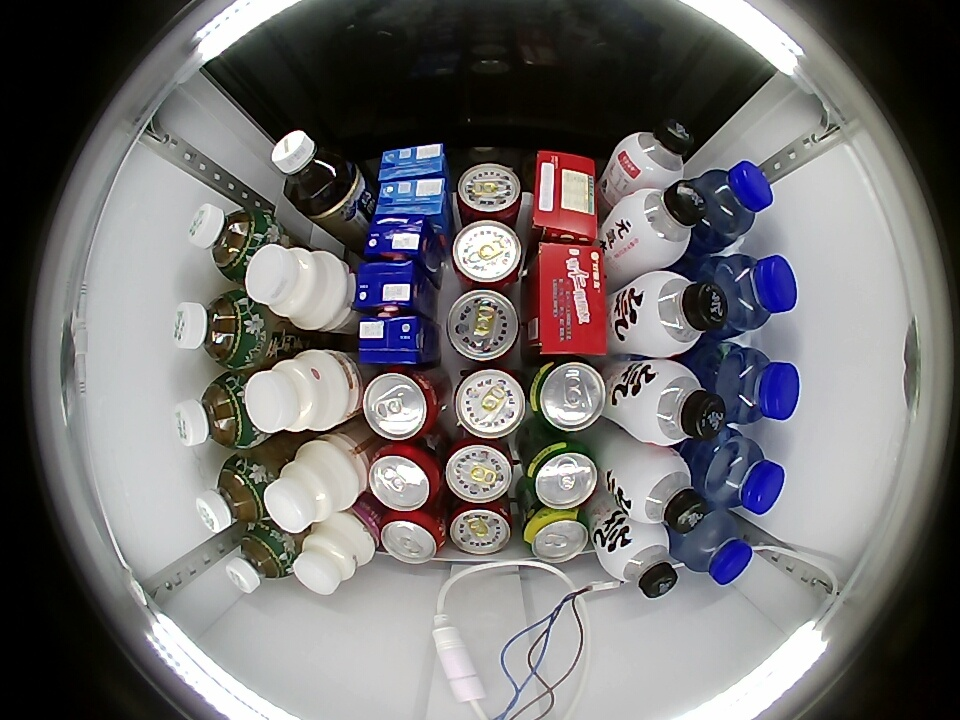bingqilinniunai: (358, 313, 437, 366), (355, 260, 429, 315), (364, 217, 437, 265)
haoliyou: (528, 241, 608, 357), (529, 150, 599, 245)
kele: (362, 369, 440, 441), (368, 442, 441, 511), (380, 510, 444, 564)
maidong: (710, 253, 798, 333), (701, 435, 786, 516), (715, 346, 801, 426), (697, 161, 774, 242), (677, 508, 754, 585)
moliqingcha: (187, 202, 276, 283), (172, 290, 261, 369), (173, 371, 262, 450), (195, 454, 272, 534), (223, 521, 298, 594)
wangzainiunai: (445, 288, 521, 364), (452, 366, 527, 440), (451, 218, 526, 290), (444, 438, 515, 504), (455, 162, 523, 226), (447, 497, 514, 558)
weitanai: (373, 176, 450, 222), (377, 144, 449, 185)
wulongcha: (271, 130, 346, 209)
xuebi2: (527, 359, 606, 433), (523, 439, 599, 510), (522, 508, 590, 563)
yingyangkuaixian: (264, 438, 362, 533), (246, 243, 349, 333), (245, 349, 352, 435), (293, 514, 376, 595)
yuanqishui: (624, 271, 730, 357), (625, 359, 727, 445), (613, 447, 708, 535), (618, 180, 708, 268), (600, 522, 680, 600), (616, 118, 695, 190)
